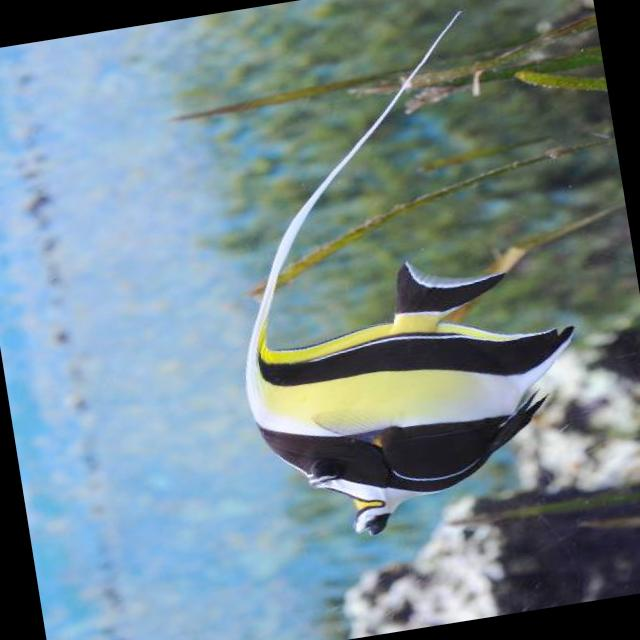MorishIdol: (188, 1, 608, 554)
